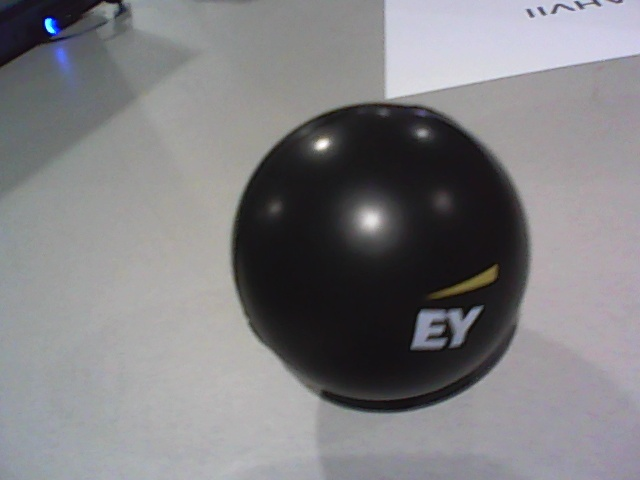ball: (232, 103, 530, 402)
